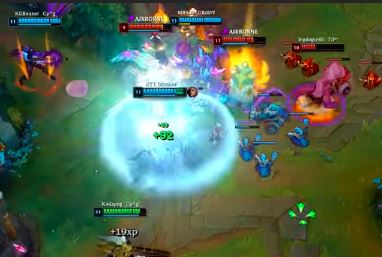bar: (132, 85, 187, 99), (118, 21, 174, 34), (213, 34, 268, 47), (93, 205, 147, 218), (7, 15, 63, 27), (170, 14, 225, 25), (291, 42, 346, 53)
